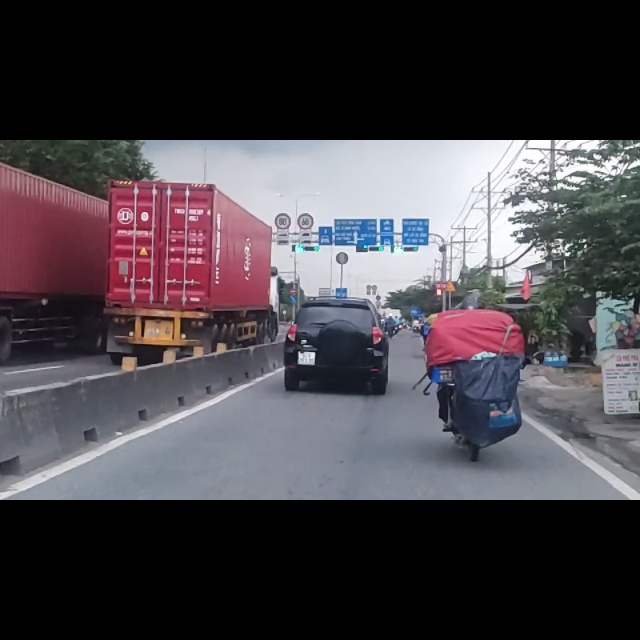bien_nguy_hiem: (297, 129, 315, 161), (275, 130, 291, 159), (289, 275, 297, 288), (289, 263, 297, 274)
